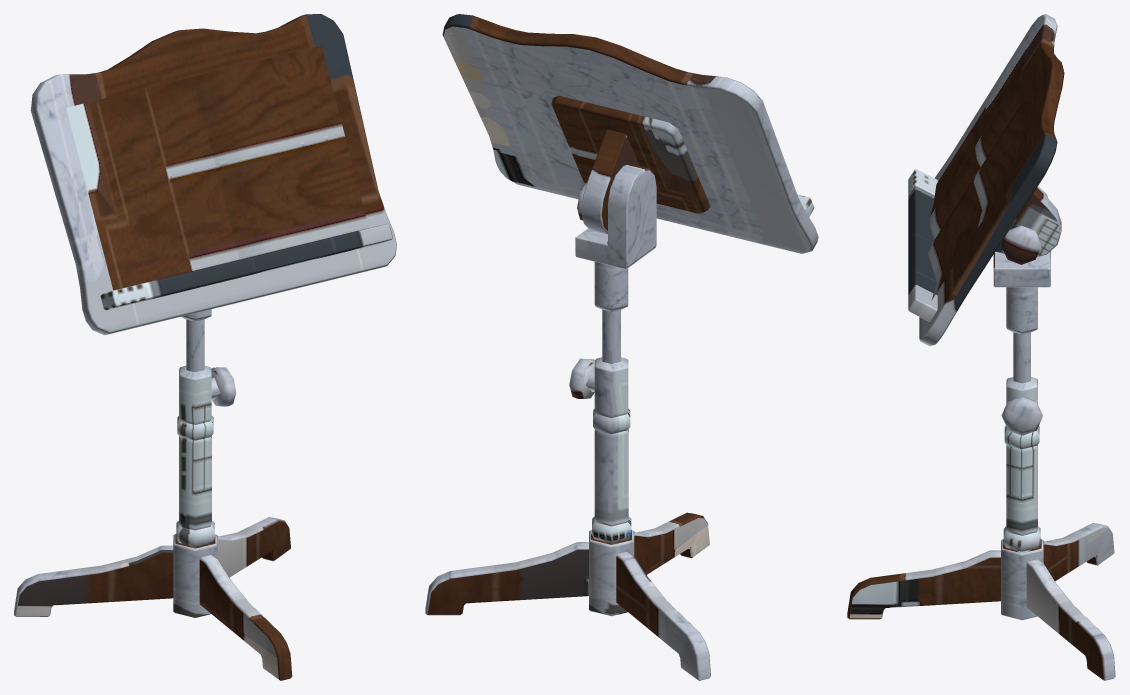
Rendered from leggio.fbx.
3 renders of one model, left to right at view 1: azimuth 30°, elevation 25°; view 2: azimuth 150°, elevation 25°; view 3: azimuth 270°, elevation 25°, orthographic. The views are drawn at different scales.
Parts seen in each view (by area): view 1: Leggio; view 2: Leggio; view 3: Leggio.
Boxes of the visible parts, left/top/right/bottom form: Leggio: left=14, top=14, right=396, bottom=680; Leggio: left=425, top=14, right=818, bottom=680; Leggio: left=847, top=14, right=1115, bottom=680.
Size of the model in its own units: 199 by 354 by 156.
